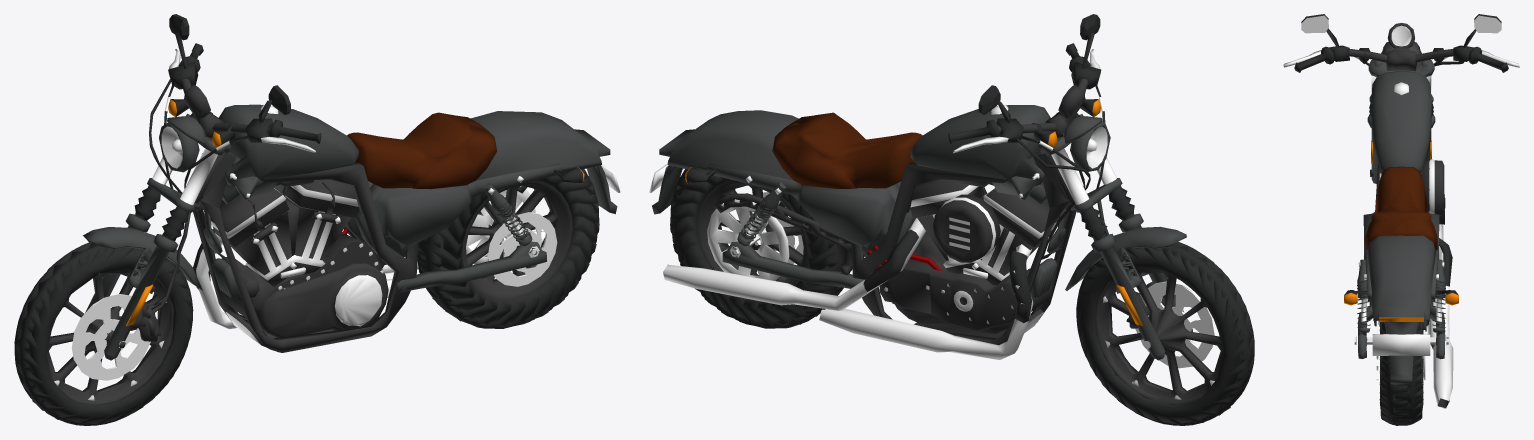
Rendered from veh-harley.glb.
3 views of the same model, side by side, from view 1: azimuth 30°, elevation 25°; view 2: azimuth 150°, elevation 25°; view 3: azimuth 270°, elevation 25° (orthographic). The views are drawn at different scales.
Visible parts, largest first — view 1: p0; view 2: p0; view 3: p0.
Boxes of the visible parts, x1,y1,x2,y2 form: p0: (14,14,620,425); p0: (649,14,1254,425); p0: (1283,14,1519,425).
Bounding box in the file's own units: 9.48 × 5.16 × 3.84.
